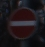No entry: (6, 5, 40, 42)
